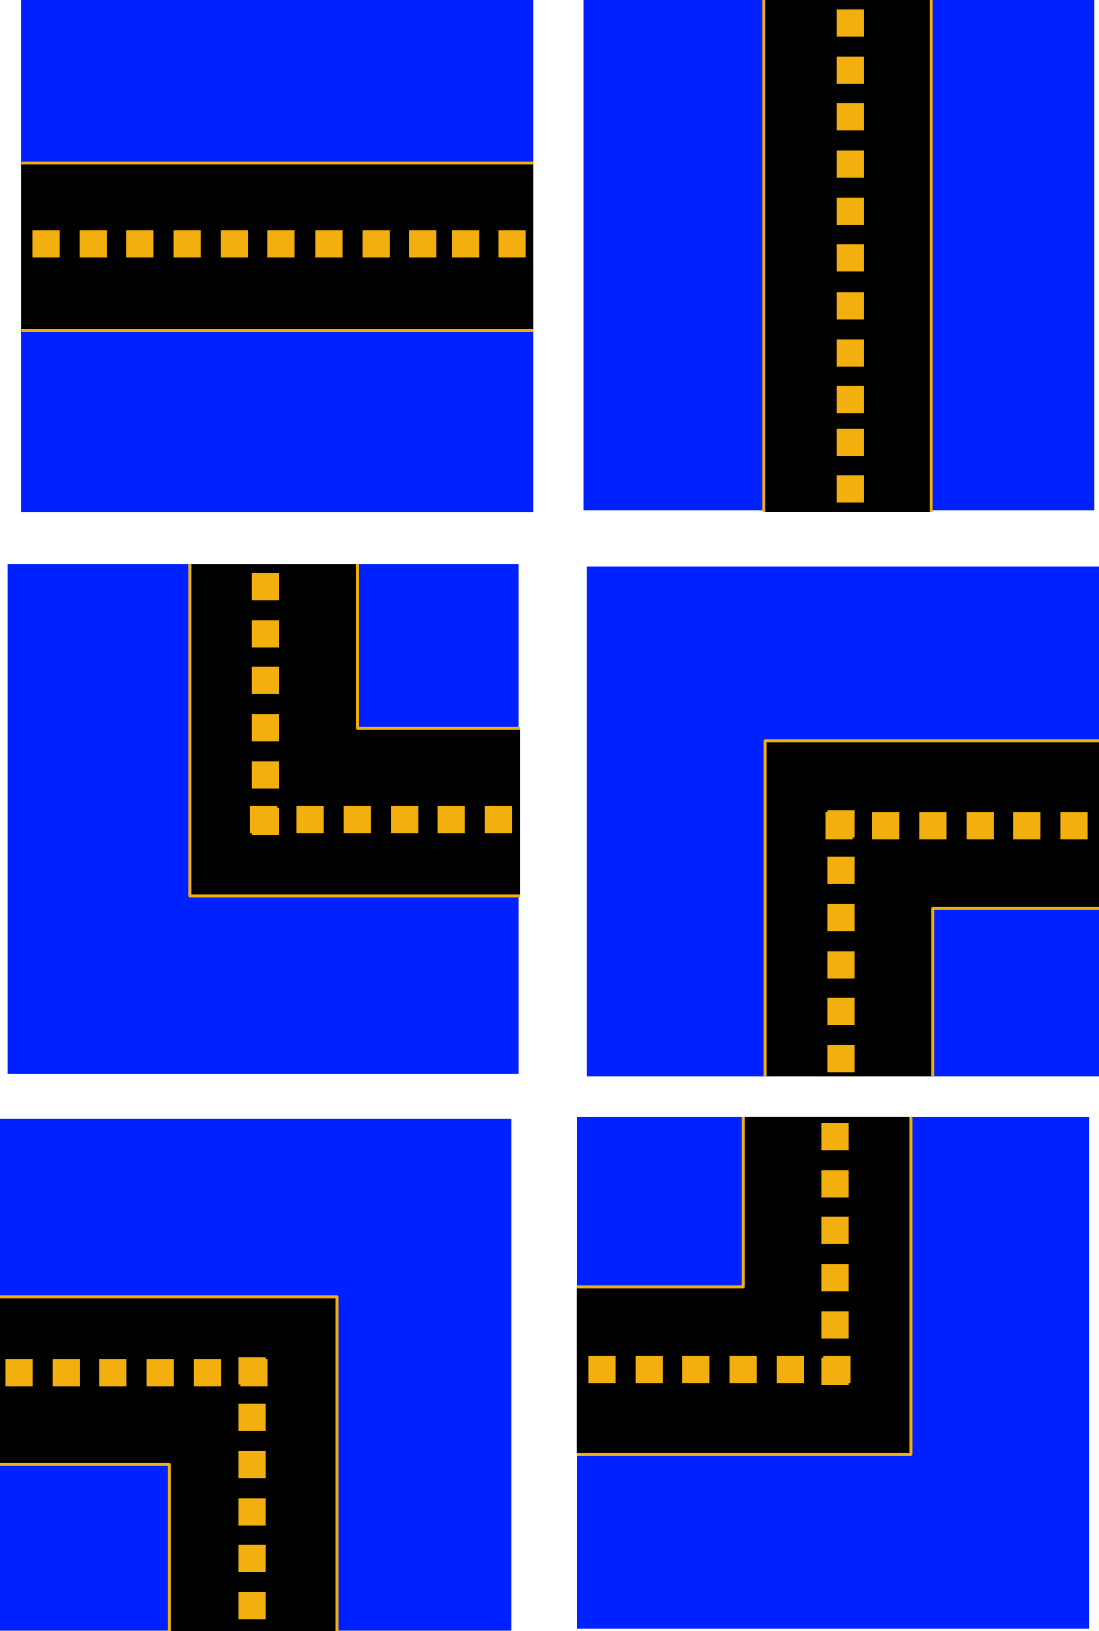down-left: (1, 1121, 518, 1629)
right-down: (586, 563, 1092, 1072)
right-left: (26, 1, 532, 513)
up-down: (588, 2, 1094, 513)
up-left: (574, 1112, 1088, 1630)
up-right: (9, 560, 519, 1074)
